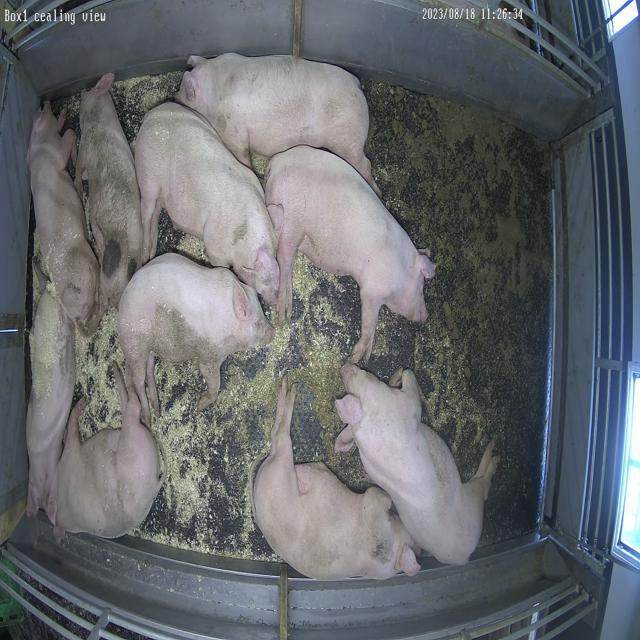Dirt: (365, 81, 553, 544), (292, 352, 366, 489)
Pig: (266, 146, 436, 364), (253, 379, 421, 580), (336, 365, 500, 566), (134, 102, 280, 304), (176, 53, 380, 192), (118, 253, 274, 426), (55, 367, 161, 538), (75, 73, 142, 330), (27, 102, 99, 326), (25, 290, 74, 521)
